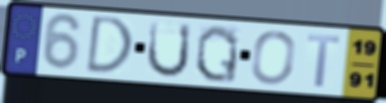6: (39, 11, 87, 75)
D: (83, 13, 136, 75)
O: (248, 29, 298, 86)
Q: (193, 23, 241, 85)
T: (305, 32, 344, 90)
U: (144, 19, 194, 80)
